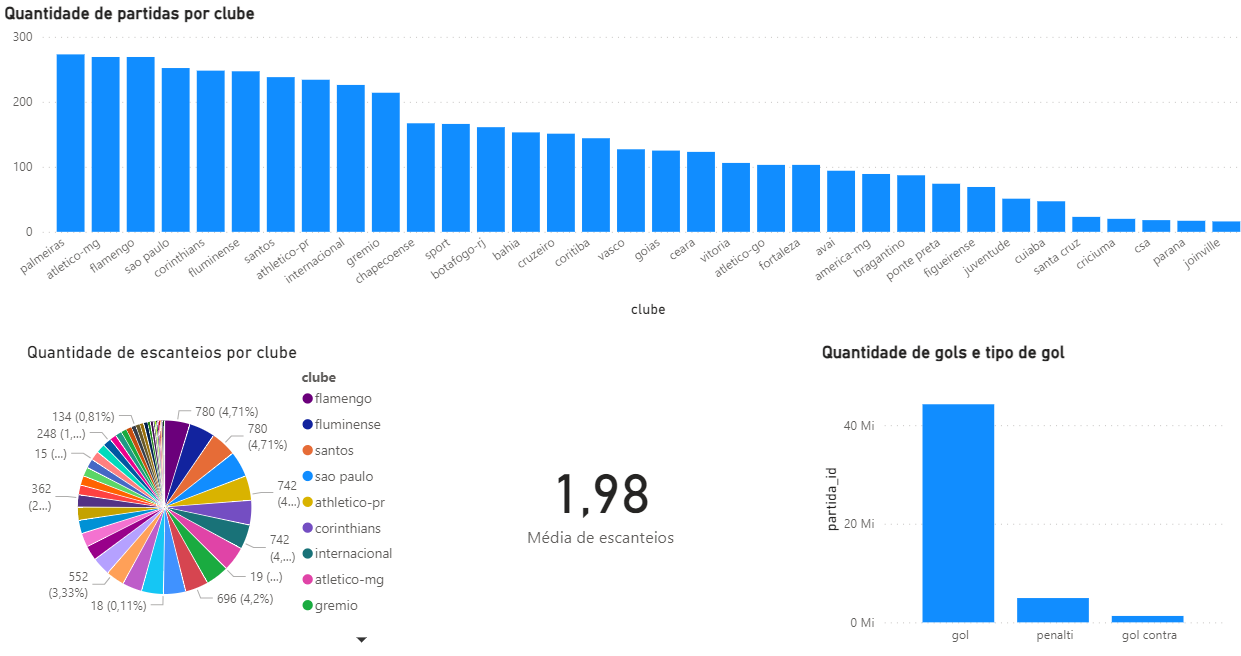

Layout of this report page (visuals, bound fields, positions):
{"tool":"powerbi","page":{"name":"Página 1","canvas":[1280,720],"ordinal":0},"visuals":[{"type":"clusteredColumnChart","fields":{"Y":["Sum(campeonato-brasileiro-gols.partida_id)"],"Category":["campeonato-brasileiro-gols.clube"]},"box":[27.5,27.5,1235,312.5],"z":0},{"type":"pieChart","fields":{"Y":["Sum(campeonato-brasileiro-estatisticas-full.partida_id)","Sum(campeonato-brasileiro-estatisticas-full.escanteios)"],"Category":["campeonato-brasileiro-estatisticas-full.clube"]},"box":[50,360,395,305],"z":1000},{"type":"clusteredColumnChart","fields":{"Category":["campeonato-brasileiro-gols.tipo_de_gol"],"Y":["Sum(campeonato-brasileiro-gols.partida_id)"]},"box":[830,360,405,305],"z":2000},{"type":"card","fields":{"Values":["Sum(campeonato-brasileiro-estatisticas-full.escanteios)"]},"box":[445,360,342.5,305],"z":3000}]}

Visuals, with their boxes on the page's 1280x720 design canvas (x1, y1, x2, y2). These are canvas units, not pixel positions in the 1241x656 screenshot, which may show the page scaled, cropped or inside an application window:
clusteredColumnChart - Sum(campeonato-brasileiro-gols.partida_id) x campeonato-brasileiro-gols.clube: x1=28 y1=28 x2=1262 y2=340
pieChart - Sum(campeonato-brasileiro-estatisticas-full.partida_id) x Sum(campeonato-brasileiro-estatisticas-full.escanteios): x1=50 y1=360 x2=445 y2=665
clusteredColumnChart - campeonato-brasileiro-gols.tipo_de_gol x Sum(campeonato-brasileiro-gols.partida_id): x1=830 y1=360 x2=1235 y2=665
card - Sum(campeonato-brasileiro-estatisticas-full.escanteios): x1=445 y1=360 x2=788 y2=665
